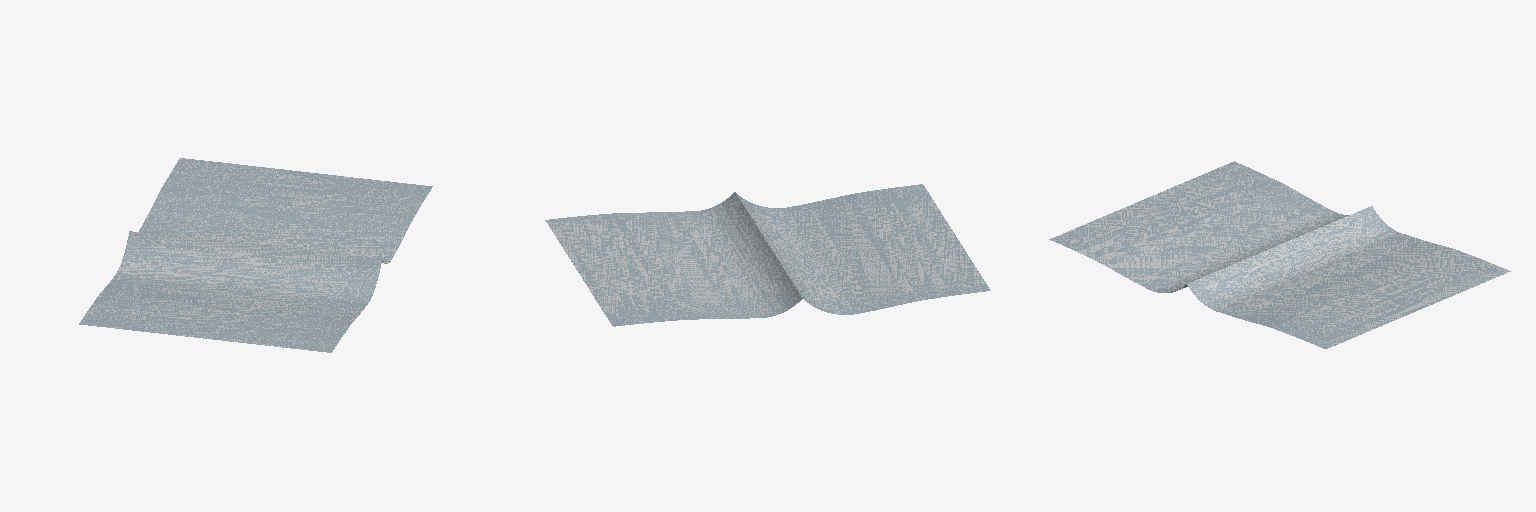
The model's file is booktop.obj.
The picture shows the model from 3 angles: view 1: azimuth 30°, elevation 25°; view 2: azimuth 150°, elevation 25°; view 3: azimuth 270°, elevation 25°; orthographic projection.
Parts seen in each view (by area): view 1: SketchUp.003_ID44.002; view 2: SketchUp.003_ID44.002; view 3: SketchUp.003_ID44.002.
Part boxes in pixels (bbox=[...]): SketchUp.003_ID44.002: bbox=[79, 158, 432, 352]; SketchUp.003_ID44.002: bbox=[545, 184, 990, 326]; SketchUp.003_ID44.002: bbox=[1049, 161, 1510, 348].
Size of the model in its own units: 0.117 by 0.0061 by 0.117.